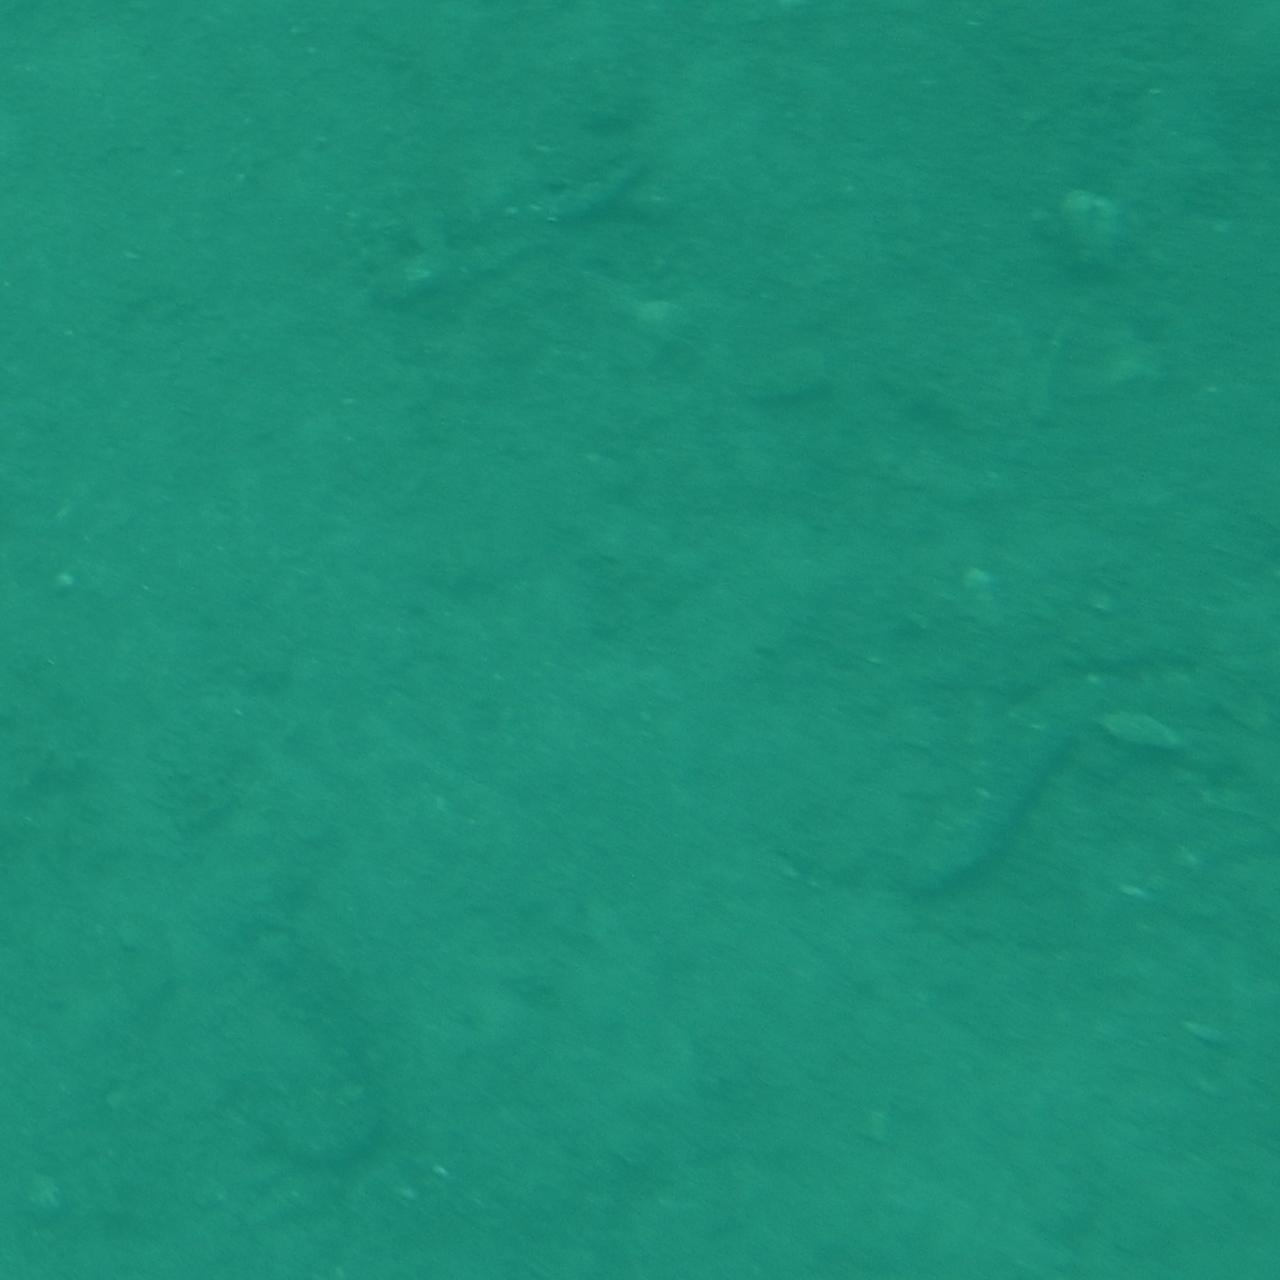Holothuria tubulosa: (207, 899, 396, 1203), (368, 144, 689, 316), (872, 683, 1084, 903)
